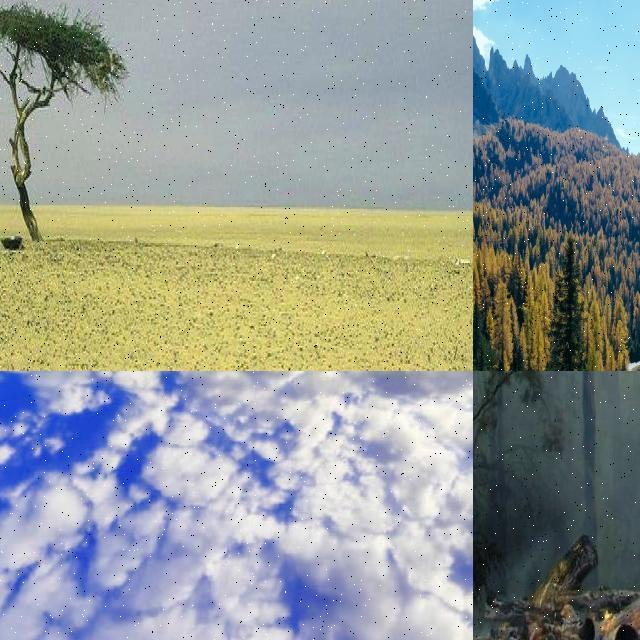tree: (0, 0, 124, 252), (473, 371, 579, 634), (549, 220, 597, 372), (472, 199, 512, 371), (473, 313, 505, 372), (530, 311, 546, 371), (614, 296, 628, 356), (473, 206, 482, 282), (472, 310, 483, 370), (473, 233, 482, 297), (494, 278, 508, 318), (512, 250, 524, 294), (473, 182, 482, 238), (603, 344, 621, 372), (473, 266, 481, 326), (473, 308, 481, 364), (472, 230, 480, 284), (472, 201, 480, 251), (472, 184, 480, 230), (500, 118, 512, 146), (604, 294, 612, 328), (601, 313, 607, 339), (633, 305, 639, 331), (473, 182, 477, 202)
